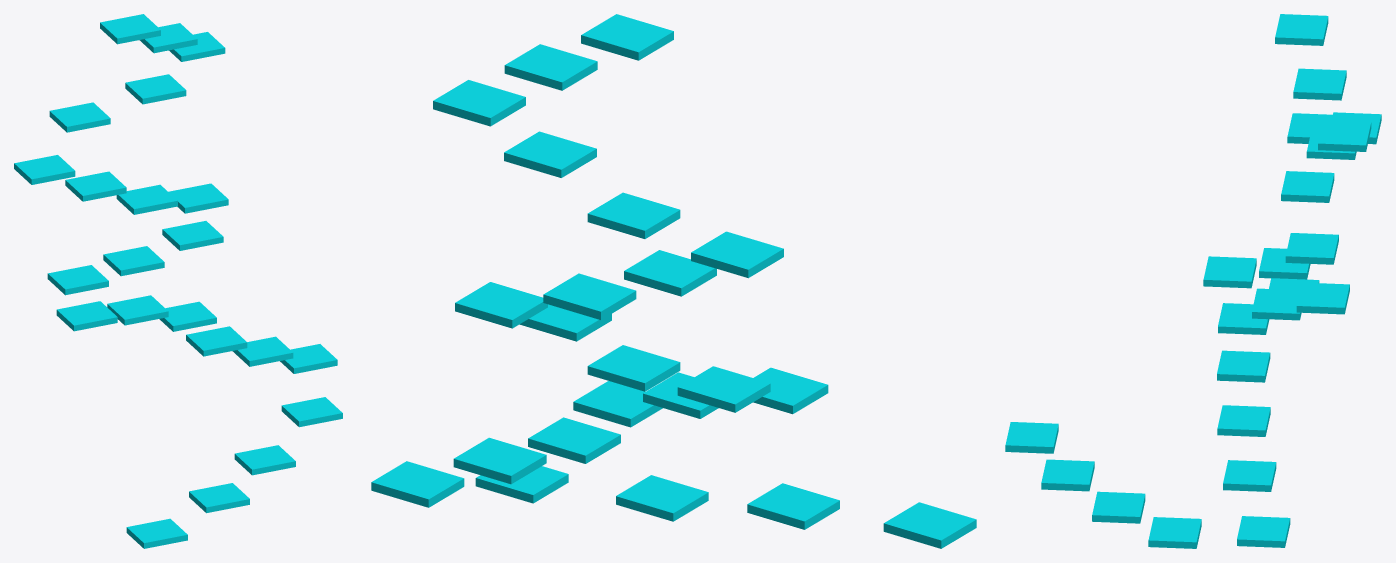
The model's file is escaleras01.glb.
The picture shows the model from 3 angles, left to right: view 1: azimuth 30°, elevation 25°; view 2: azimuth 150°, elevation 25°; view 3: azimuth 270°, elevation 25°; orthographic projection. The views are drawn at different scales.
Visible parts, largest first — view 1: Escaleras; view 2: Escaleras; view 3: Escaleras.
Part boxes in pixels (bbox=[...]): Escaleras: bbox=[14, 14, 342, 548]; Escaleras: bbox=[371, 14, 976, 548]; Escaleras: bbox=[1005, 14, 1381, 548].
Size of what is drawn, in the model's own units: 24.85 by 32.45 by 23.77.
Materials: 1 (1 with a texture image).
